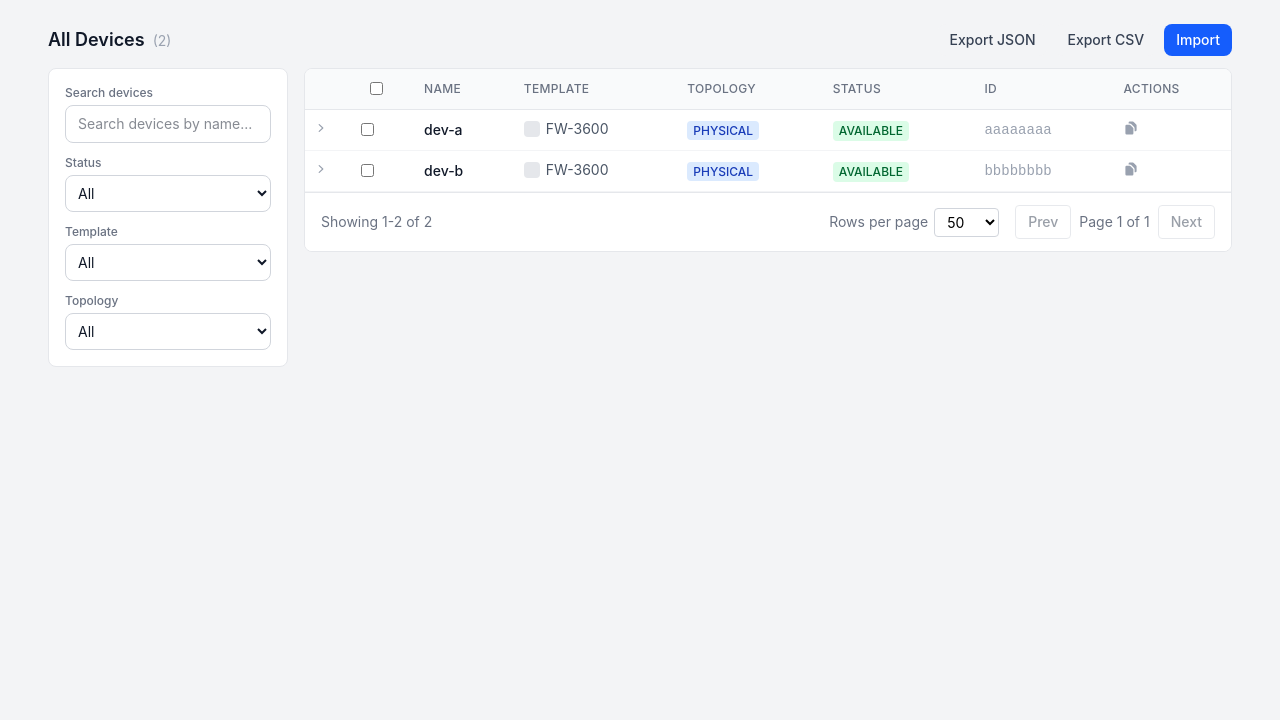
InventoryPage › list changes and row state (issue #938) › keeps an expanded row open when a list change still contains it
Expected: the text "dev-a" is shown, [408,110,508,150]
Step 1. Click the button named "Expand ports" next to "dev-a" → (321, 128), box [313,120,329,136]
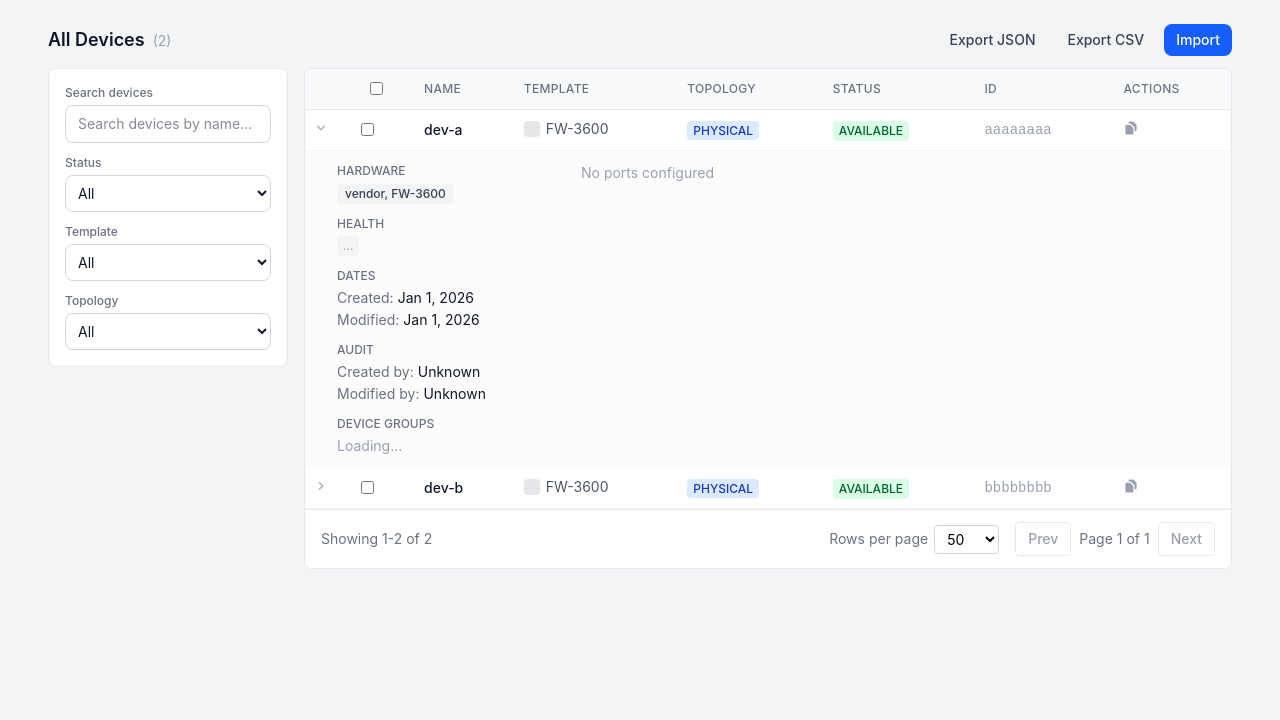
Result: the text "No ports configured" is shown at [581,164,714,181]
Step 2. Type "keep" into the field with placeholder "Search devices by name..." → (168, 124), box [65,105,271,143]
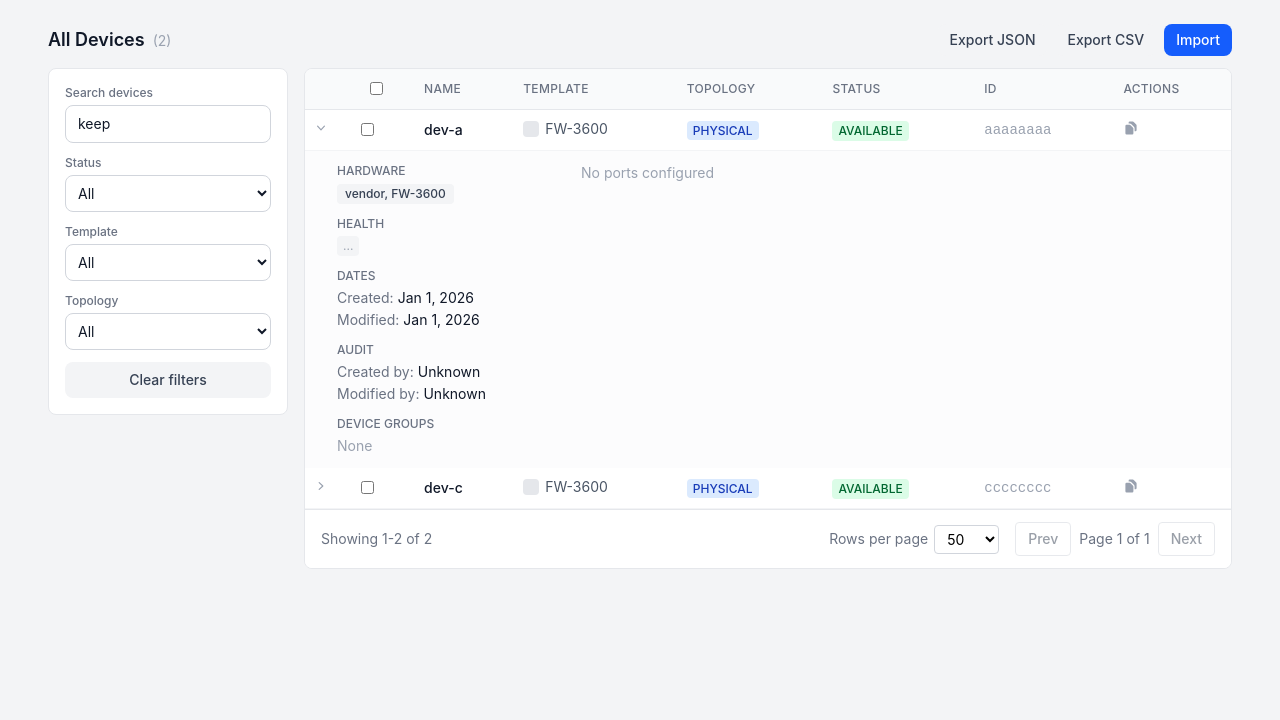
Result: the text "No ports configured" is shown at [581,164,714,181]
Result: the text "dev-c" is shown at [408,468,507,508]
Result: the text "dev-b" is gone
